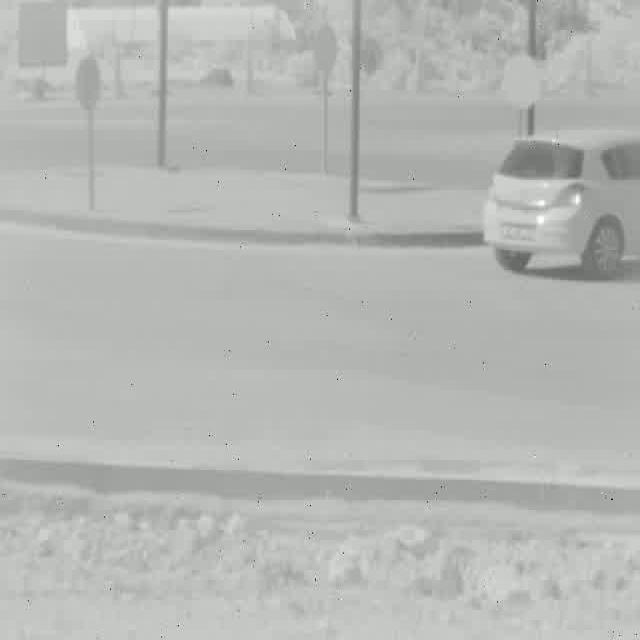Car: (483, 129, 640, 272)
